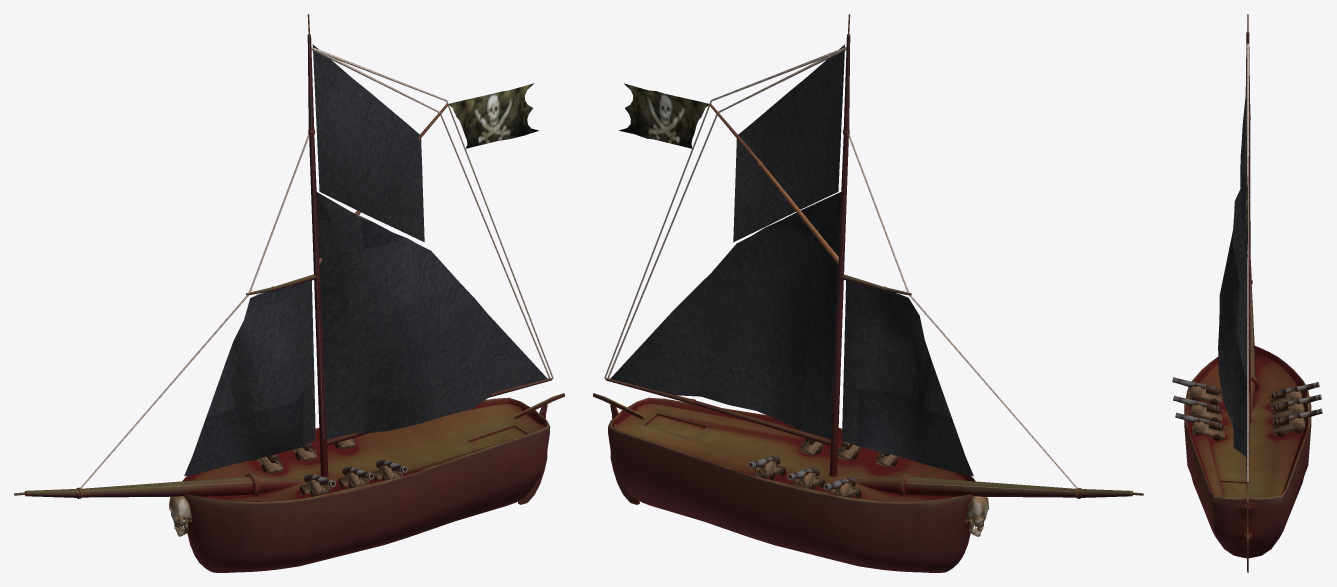
File: sloop.glb
3 renders of one model, left to right at view 1: azimuth 30°, elevation 25°; view 2: azimuth 150°, elevation 25°; view 3: azimuth 270°, elevation 25°, orthographic. The views are drawn at different scales.
Visible parts, largest first — view 1: Cube.001; view 2: Cube.001; view 3: Cube.001, Cylinder.005, Cylinder.002, Cylinder.003, Cylinder.001, Cylinder.006, Cylinder.004.
Boxes of the visible parts, x1,y1,x2,y2 form: Cube.001: [14, 14, 564, 572]; Cube.001: [593, 14, 1143, 572]; Cube.001: [1184, 14, 1311, 572]; Cylinder.005: [1272, 408, 1322, 436]; Cylinder.002: [1172, 377, 1221, 405]; Cylinder.003: [1175, 412, 1225, 441]; Cylinder.001: [1173, 395, 1223, 422]; Cylinder.006: [1271, 394, 1321, 421]; Cylinder.004: [1269, 382, 1319, 408].
Size of the model in its own units: 4038 by 3804 by 1111.
7 materials, 7 textured.
